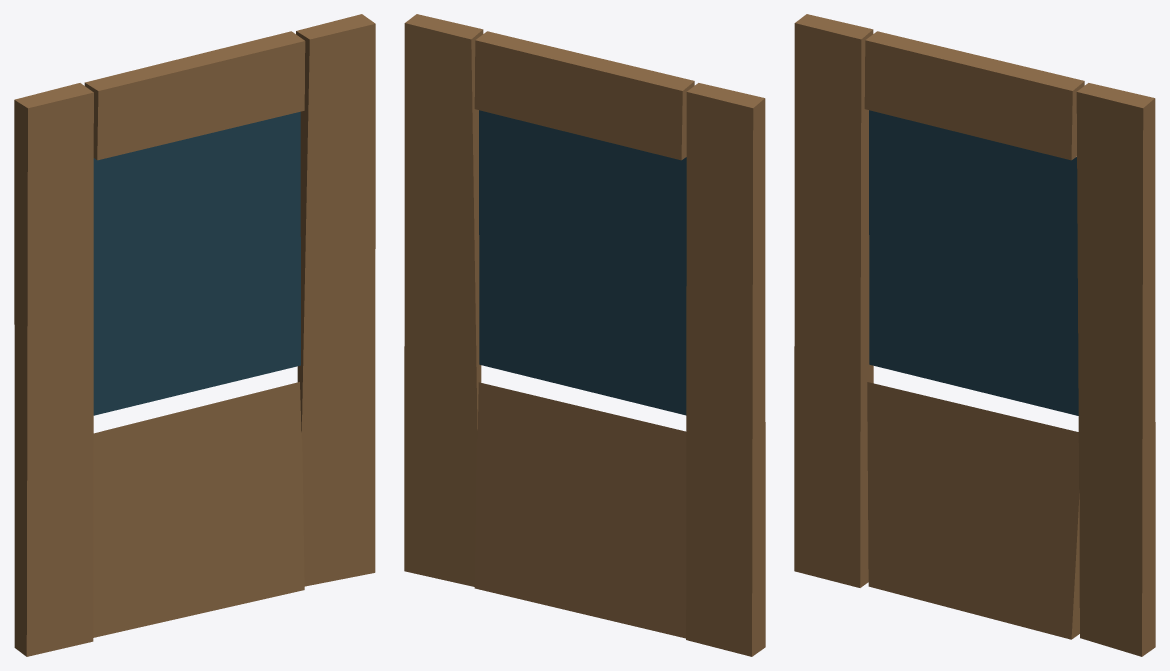
The model's file is harbor-window-wall.lod2.glb.
3 views of the same model, side by side, from view 1: azimuth 30°, elevation 25°; view 2: azimuth 150°, elevation 25°; view 3: azimuth 330°, elevation 25° (orthographic).
Visible parts, largest first — view 1: harbor-window-wall__body; view 2: harbor-window-wall__body; view 3: harbor-window-wall__body.
Boxes of the visible parts, left/top/right/bottom form: harbor-window-wall__body: left=14, top=14, right=375, bottom=656; harbor-window-wall__body: left=404, top=14, right=765, bottom=656; harbor-window-wall__body: left=794, top=14, right=1155, bottom=656.
Size of the model in its own units: 1.98 by 3 by 0.1292.
